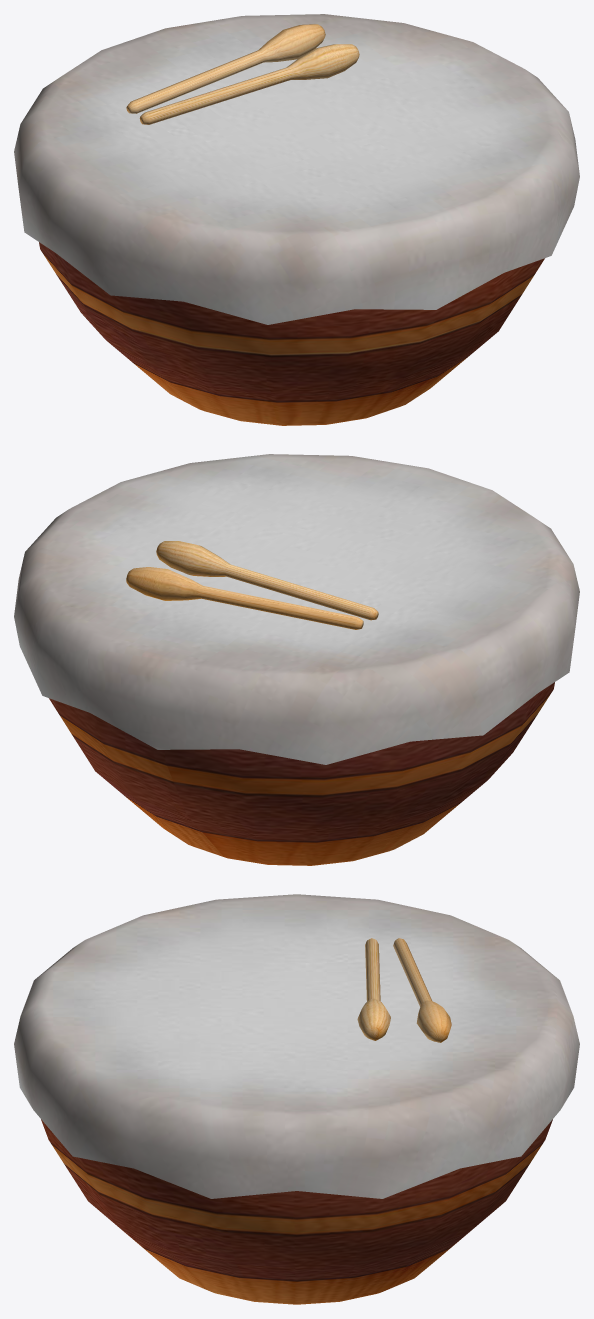
File: drum.fbx
3 views of the same model, one above another, from view 1: azimuth 30°, elevation 25°; view 2: azimuth 150°, elevation 25°; view 3: azimuth 270°, elevation 25° (orthographic).
Visible parts, largest first — view 1: drum; view 2: drum; view 3: drum.
Boxes of the visible parts, x1,y1,x2,y2 form: drum: [14, 14, 579, 425]; drum: [14, 454, 579, 865]; drum: [14, 894, 579, 1304].
Bounding box in the file's own units: 8.97 × 4.8 × 8.97.
